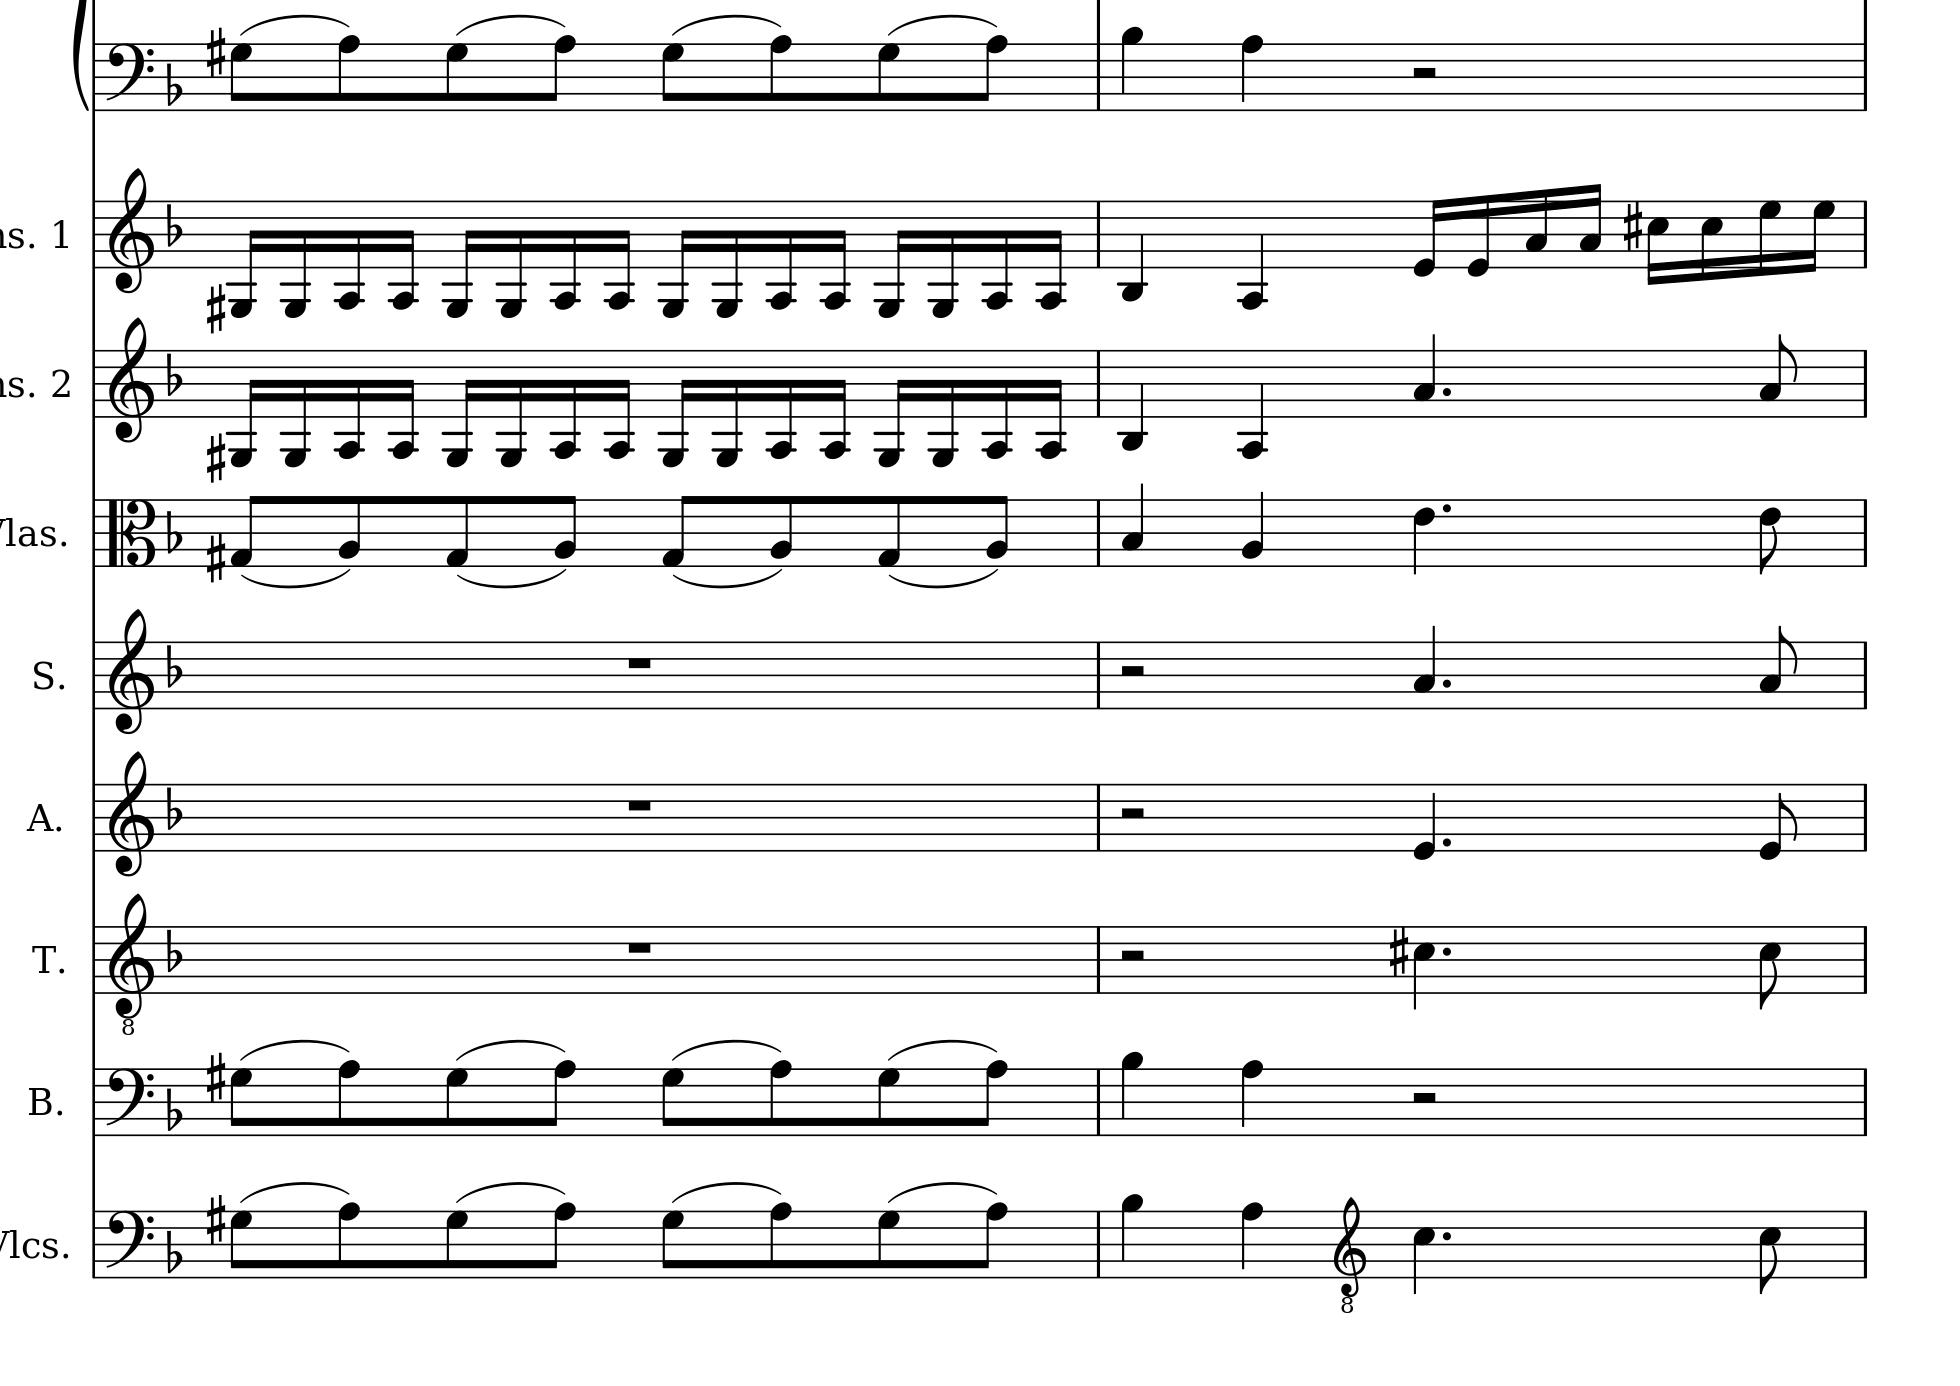16_-4: (1035, 196, 1068, 310), (550, 196, 582, 313), (550, 346, 582, 463), (604, 346, 636, 463), (820, 196, 852, 310), (982, 196, 1014, 310), (982, 346, 1014, 460), (1035, 346, 1066, 460), (334, 198, 366, 310), (334, 346, 364, 463), (766, 346, 796, 463), (766, 196, 796, 312), (604, 196, 634, 310), (388, 346, 418, 460), (820, 346, 850, 460), (388, 198, 418, 310)
16_-5: (228, 196, 264, 316), (874, 199, 910, 319), (442, 349, 478, 469), (658, 349, 694, 469), (228, 351, 262, 468), (660, 198, 691, 316), (712, 199, 744, 318), (876, 348, 907, 466), (712, 349, 744, 468), (498, 349, 529, 468), (280, 348, 312, 466), (928, 198, 958, 318), (280, 198, 310, 316), (445, 199, 475, 318), (496, 199, 526, 318), (928, 348, 958, 466)
16_0: (1410, 196, 1446, 280), (1464, 192, 1494, 279)
16_3: (1578, 181, 1603, 270), (1524, 187, 1551, 268)
16_5: (1698, 196, 1725, 283), (1645, 198, 1671, 286)
16_7: (1803, 198, 1836, 274), (1756, 196, 1782, 279)
4_-3: (1117, 196, 1147, 303), (1117, 346, 1147, 453)
4_-4: (1236, 346, 1269, 460), (1236, 198, 1269, 310)
4_0: (1413, 780, 1440, 861)
4_2: (1240, 489, 1267, 568)
4_3: (1411, 331, 1438, 418), (1120, 481, 1146, 568), (1413, 622, 1438, 709)
4_5: (1411, 922, 1437, 1012), (1411, 1207, 1437, 1296)
4_6: (1411, 496, 1437, 576)
4_8: (1239, 33, 1266, 112), (1240, 1057, 1264, 1137), (1240, 1200, 1264, 1279)
4_9: (1119, 1048, 1144, 1138), (1119, 1192, 1144, 1279), (1120, 24, 1144, 112)
8_0: (1759, 781, 1798, 859)
8_1: (660, 493, 697, 570), (229, 493, 265, 568), (876, 493, 903, 570), (445, 493, 471, 570)
8_2: (985, 493, 1011, 568), (337, 493, 361, 568), (553, 493, 577, 568), (769, 493, 793, 568)
8_3: (1758, 622, 1800, 709), (1758, 331, 1798, 418)
8_5: (1758, 922, 1782, 1011), (1758, 1207, 1782, 1294)
8_6: (1758, 496, 1782, 576)
8_7: (874, 1066, 901, 1138), (874, 1209, 901, 1279), (228, 40, 253, 112), (444, 40, 469, 112), (660, 40, 685, 112), (876, 40, 901, 112), (660, 1207, 685, 1279), (228, 1066, 253, 1137), (444, 1066, 469, 1137), (660, 1066, 685, 1137), (228, 1207, 253, 1278), (444, 1209, 469, 1279)
8_8: (541, 1057, 576, 1137), (973, 1057, 1008, 1137), (541, 1200, 576, 1279), (973, 1200, 1008, 1279), (544, 33, 576, 112), (976, 33, 1008, 112), (337, 1057, 361, 1138), (769, 1057, 793, 1138), (337, 33, 361, 112), (769, 33, 793, 112), (337, 1200, 361, 1279), (769, 1200, 793, 1279)
Cclef: (106, 496, 157, 568)
Fclef: (103, 1065, 154, 1138), (103, 40, 154, 112), (103, 1207, 154, 1279)
Flat: (163, 349, 184, 397), (163, 507, 184, 555), (163, 60, 184, 106), (163, 201, 184, 247), (163, 642, 184, 688), (163, 1086, 184, 1132), (163, 1228, 184, 1275), (163, 925, 183, 973), (163, 784, 183, 831)
Gclef: (106, 607, 154, 736), (106, 166, 154, 294), (106, 316, 154, 444), (106, 750, 154, 877)
Lower_Gclef: (106, 889, 154, 1036), (1332, 1194, 1368, 1312)
Rests1: (624, 652, 655, 672), (624, 795, 655, 814), (624, 937, 655, 955)
Rests2: (1116, 661, 1149, 682), (1117, 804, 1149, 823), (1117, 946, 1149, 964), (1410, 64, 1440, 81), (1410, 1089, 1440, 1105)
Sharp: (1387, 924, 1411, 979), (202, 1192, 226, 1246), (204, 25, 226, 79), (204, 282, 226, 336), (1621, 199, 1644, 253), (204, 1050, 226, 1104), (204, 531, 226, 583), (205, 430, 226, 484)
Single_barline: (85, 499, 105, 565), (1854, 1209, 1873, 1275), (1090, 1210, 1110, 1276), (1090, 42, 1108, 109), (1090, 1068, 1108, 1134), (87, 640, 103, 709), (87, 199, 103, 267), (87, 349, 103, 417), (1857, 349, 1873, 417), (1857, 640, 1873, 708), (87, 783, 103, 850), (1090, 783, 1107, 850), (1857, 783, 1873, 850), (1857, 925, 1873, 993), (87, 1068, 103, 1135), (1857, 43, 1873, 109), (1857, 499, 1873, 565), (87, 925, 103, 991), (1090, 925, 1107, 991), (1092, 199, 1107, 267), (1092, 349, 1107, 417), (1092, 640, 1107, 708), (1857, 1068, 1872, 1135), (88, 43, 103, 109), (1858, 201, 1873, 267), (1092, 499, 1107, 565), (87, 1210, 102, 1276)
Slur: (238, 1036, 352, 1060), (454, 1036, 568, 1060), (886, 1036, 1000, 1060), (670, 1179, 784, 1203), (670, 1036, 783, 1060), (885, 1180, 1002, 1203), (886, 13, 1002, 36), (238, 1179, 352, 1201), (240, 567, 352, 589), (672, 565, 783, 588), (454, 1180, 570, 1201), (238, 13, 352, 34), (454, 13, 567, 34), (454, 567, 567, 588), (888, 567, 1000, 588), (670, 13, 781, 34)
Vla: (1, 511, 37, 553)
Vlc: (1, 1222, 42, 1264)
dot: (1440, 499, 1455, 514), (1440, 943, 1455, 958), (1440, 1228, 1453, 1242), (1440, 384, 1452, 397), (1440, 835, 1453, 847), (1440, 676, 1452, 688)
